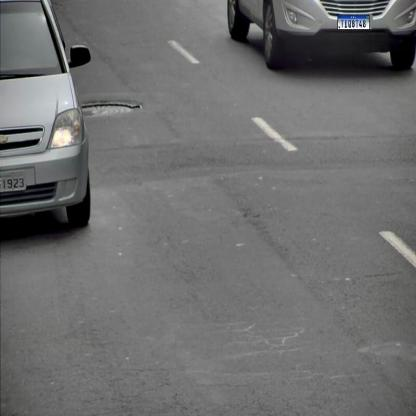PlacaM: (338, 14, 370, 30)
